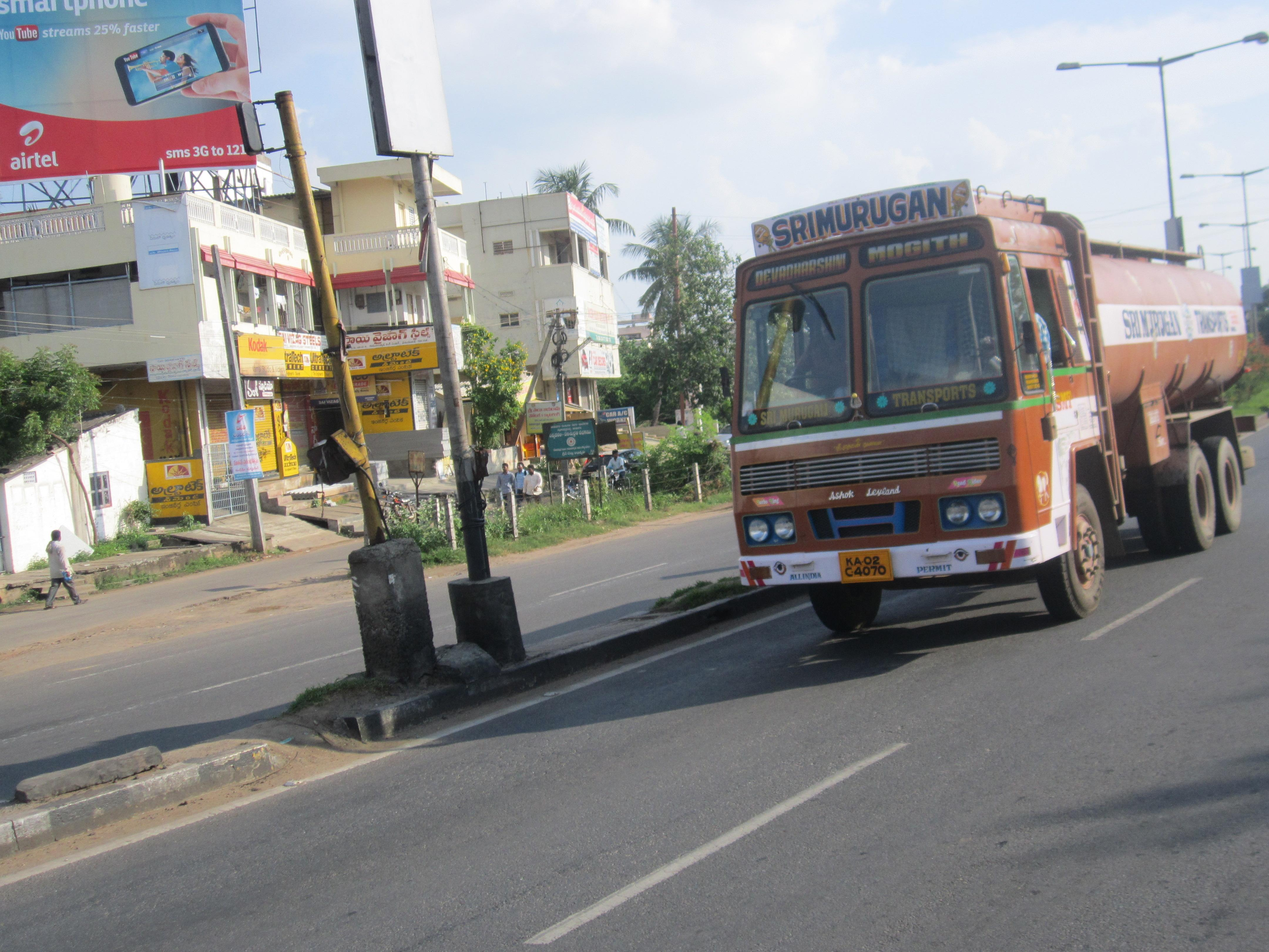truck: (717, 194, 1269, 662)
